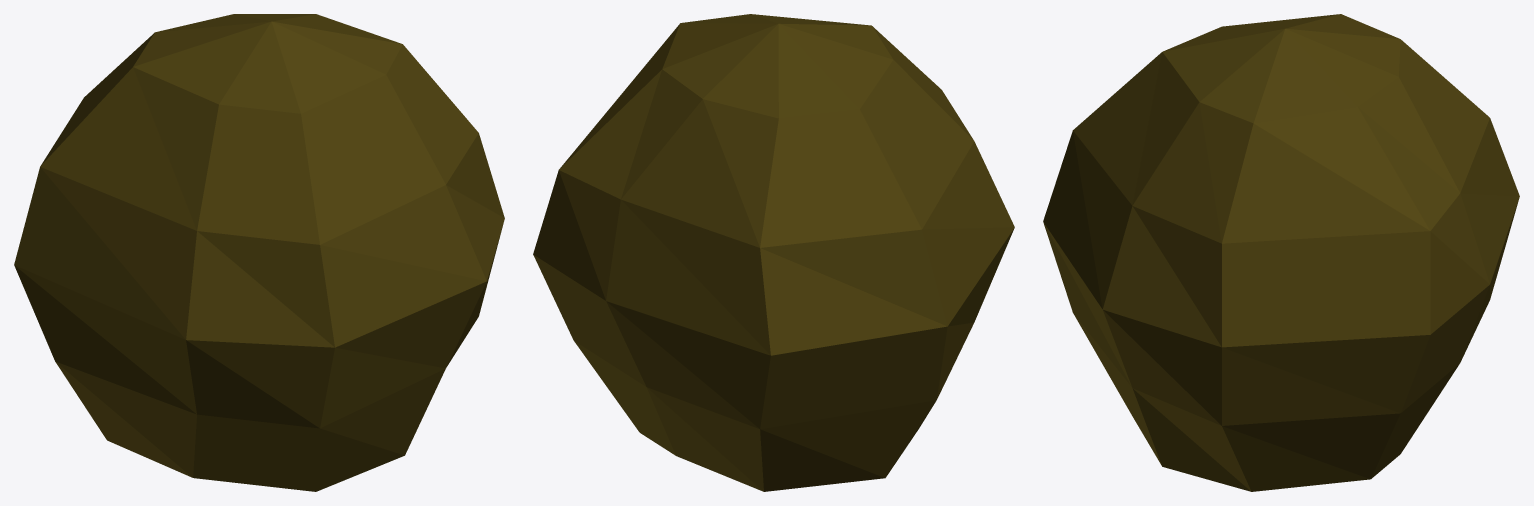
File: obj_boulder_9_0.obj
3 views of the same model, side by side, from view 1: azimuth 30°, elevation 25°; view 2: azimuth 150°, elevation 25°; view 3: azimuth 270°, elevation 25° (orthographic).
Size of the model in its own units: 2 by 1.87 by 2.
